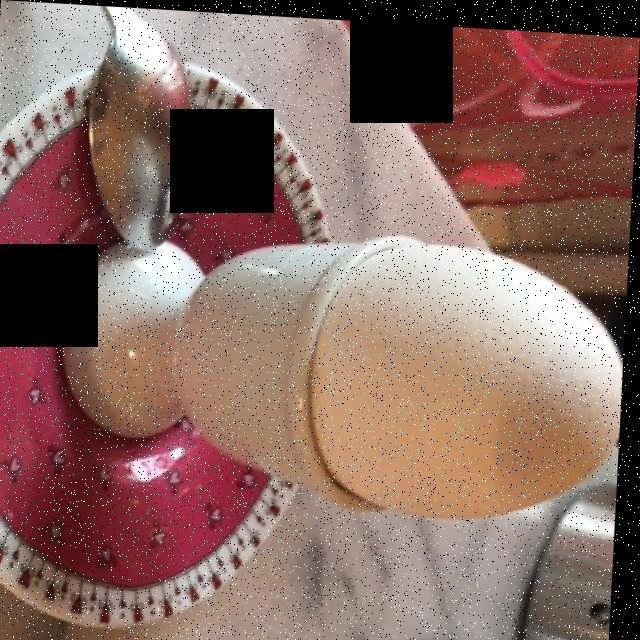egg: (317, 243, 619, 509)
